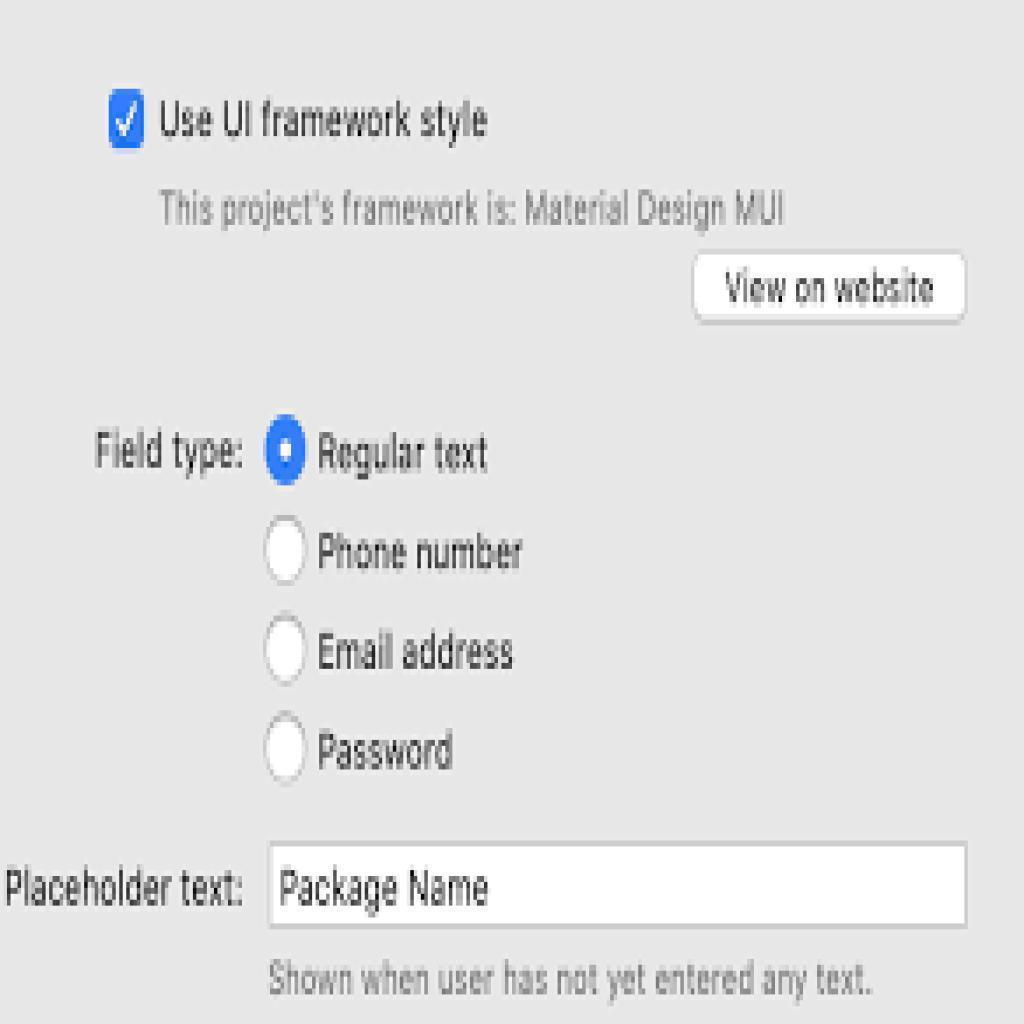button: (696, 253, 964, 321)
checkbox: (108, 89, 143, 148)
input: (270, 843, 968, 926)
radio: (260, 410, 311, 489), (263, 610, 311, 687), (262, 509, 311, 584), (264, 709, 310, 784)
